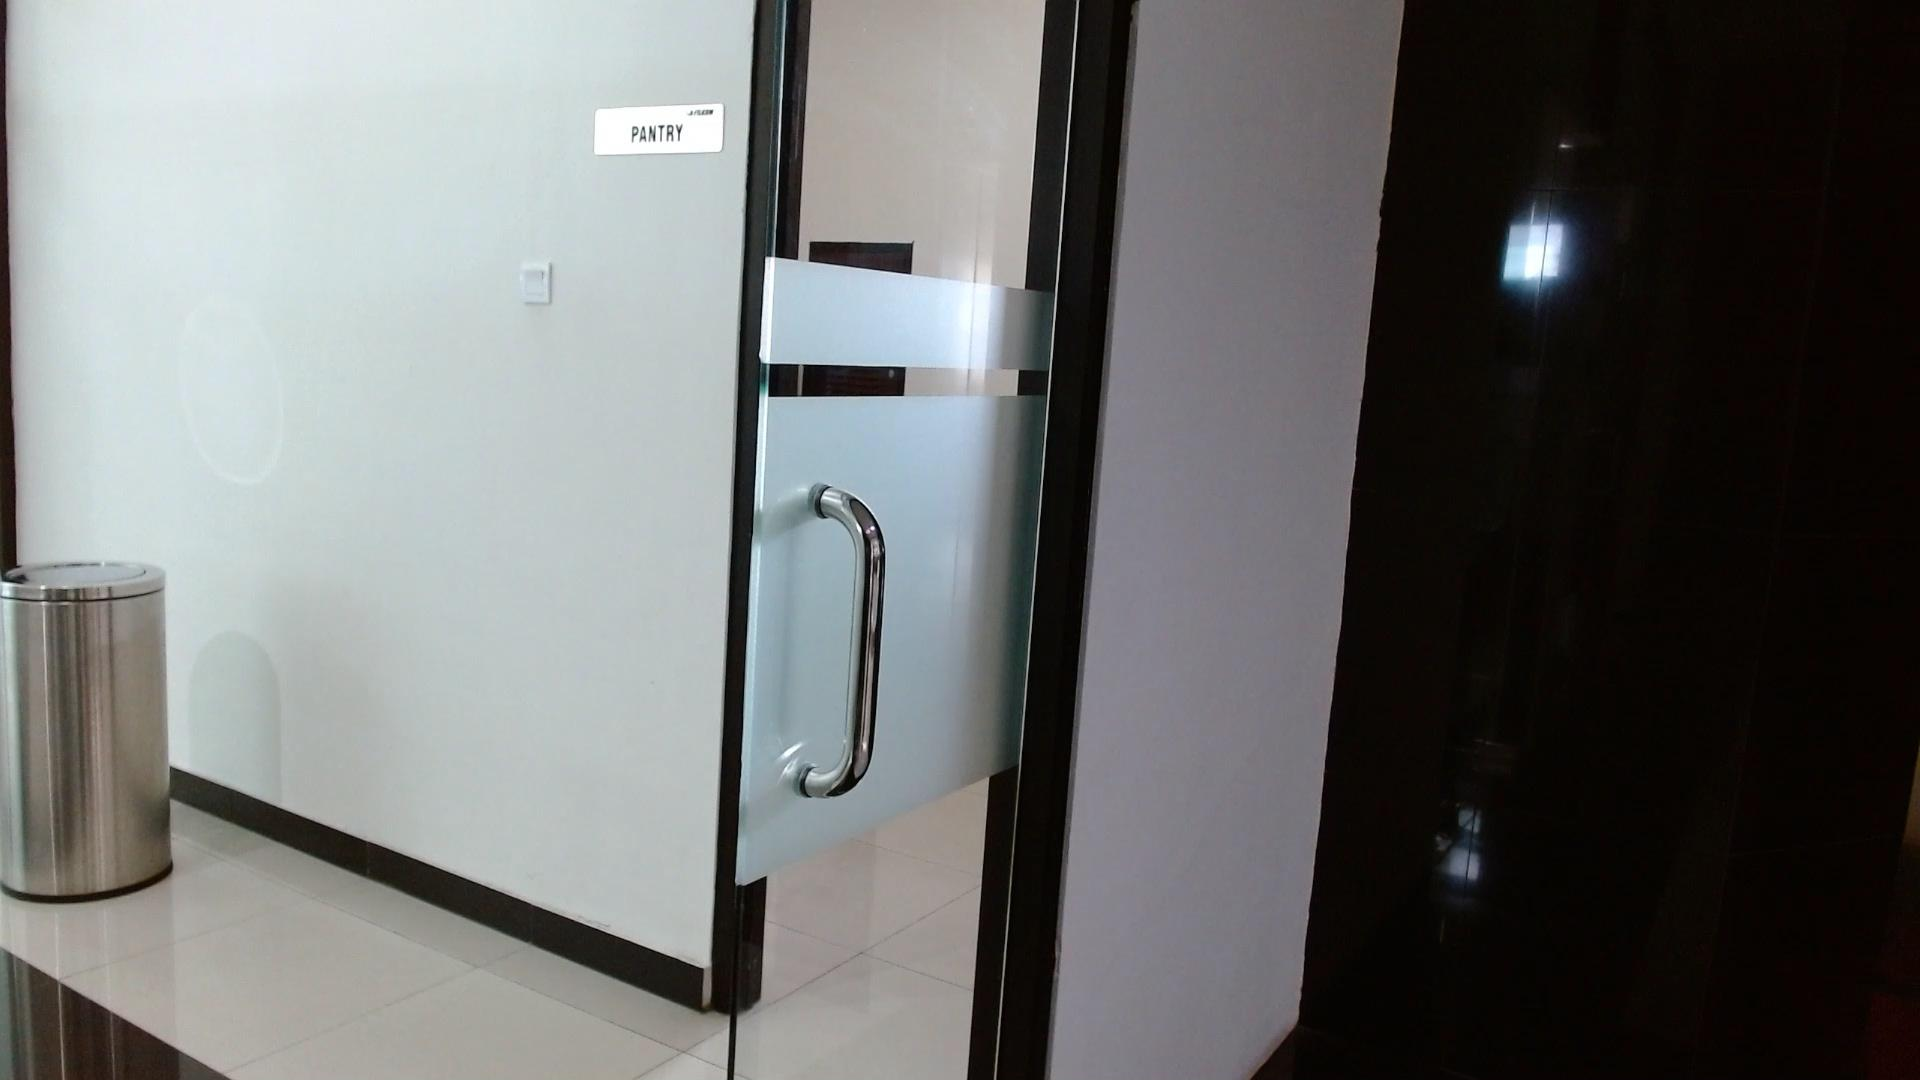plate: (592, 103, 724, 156)
